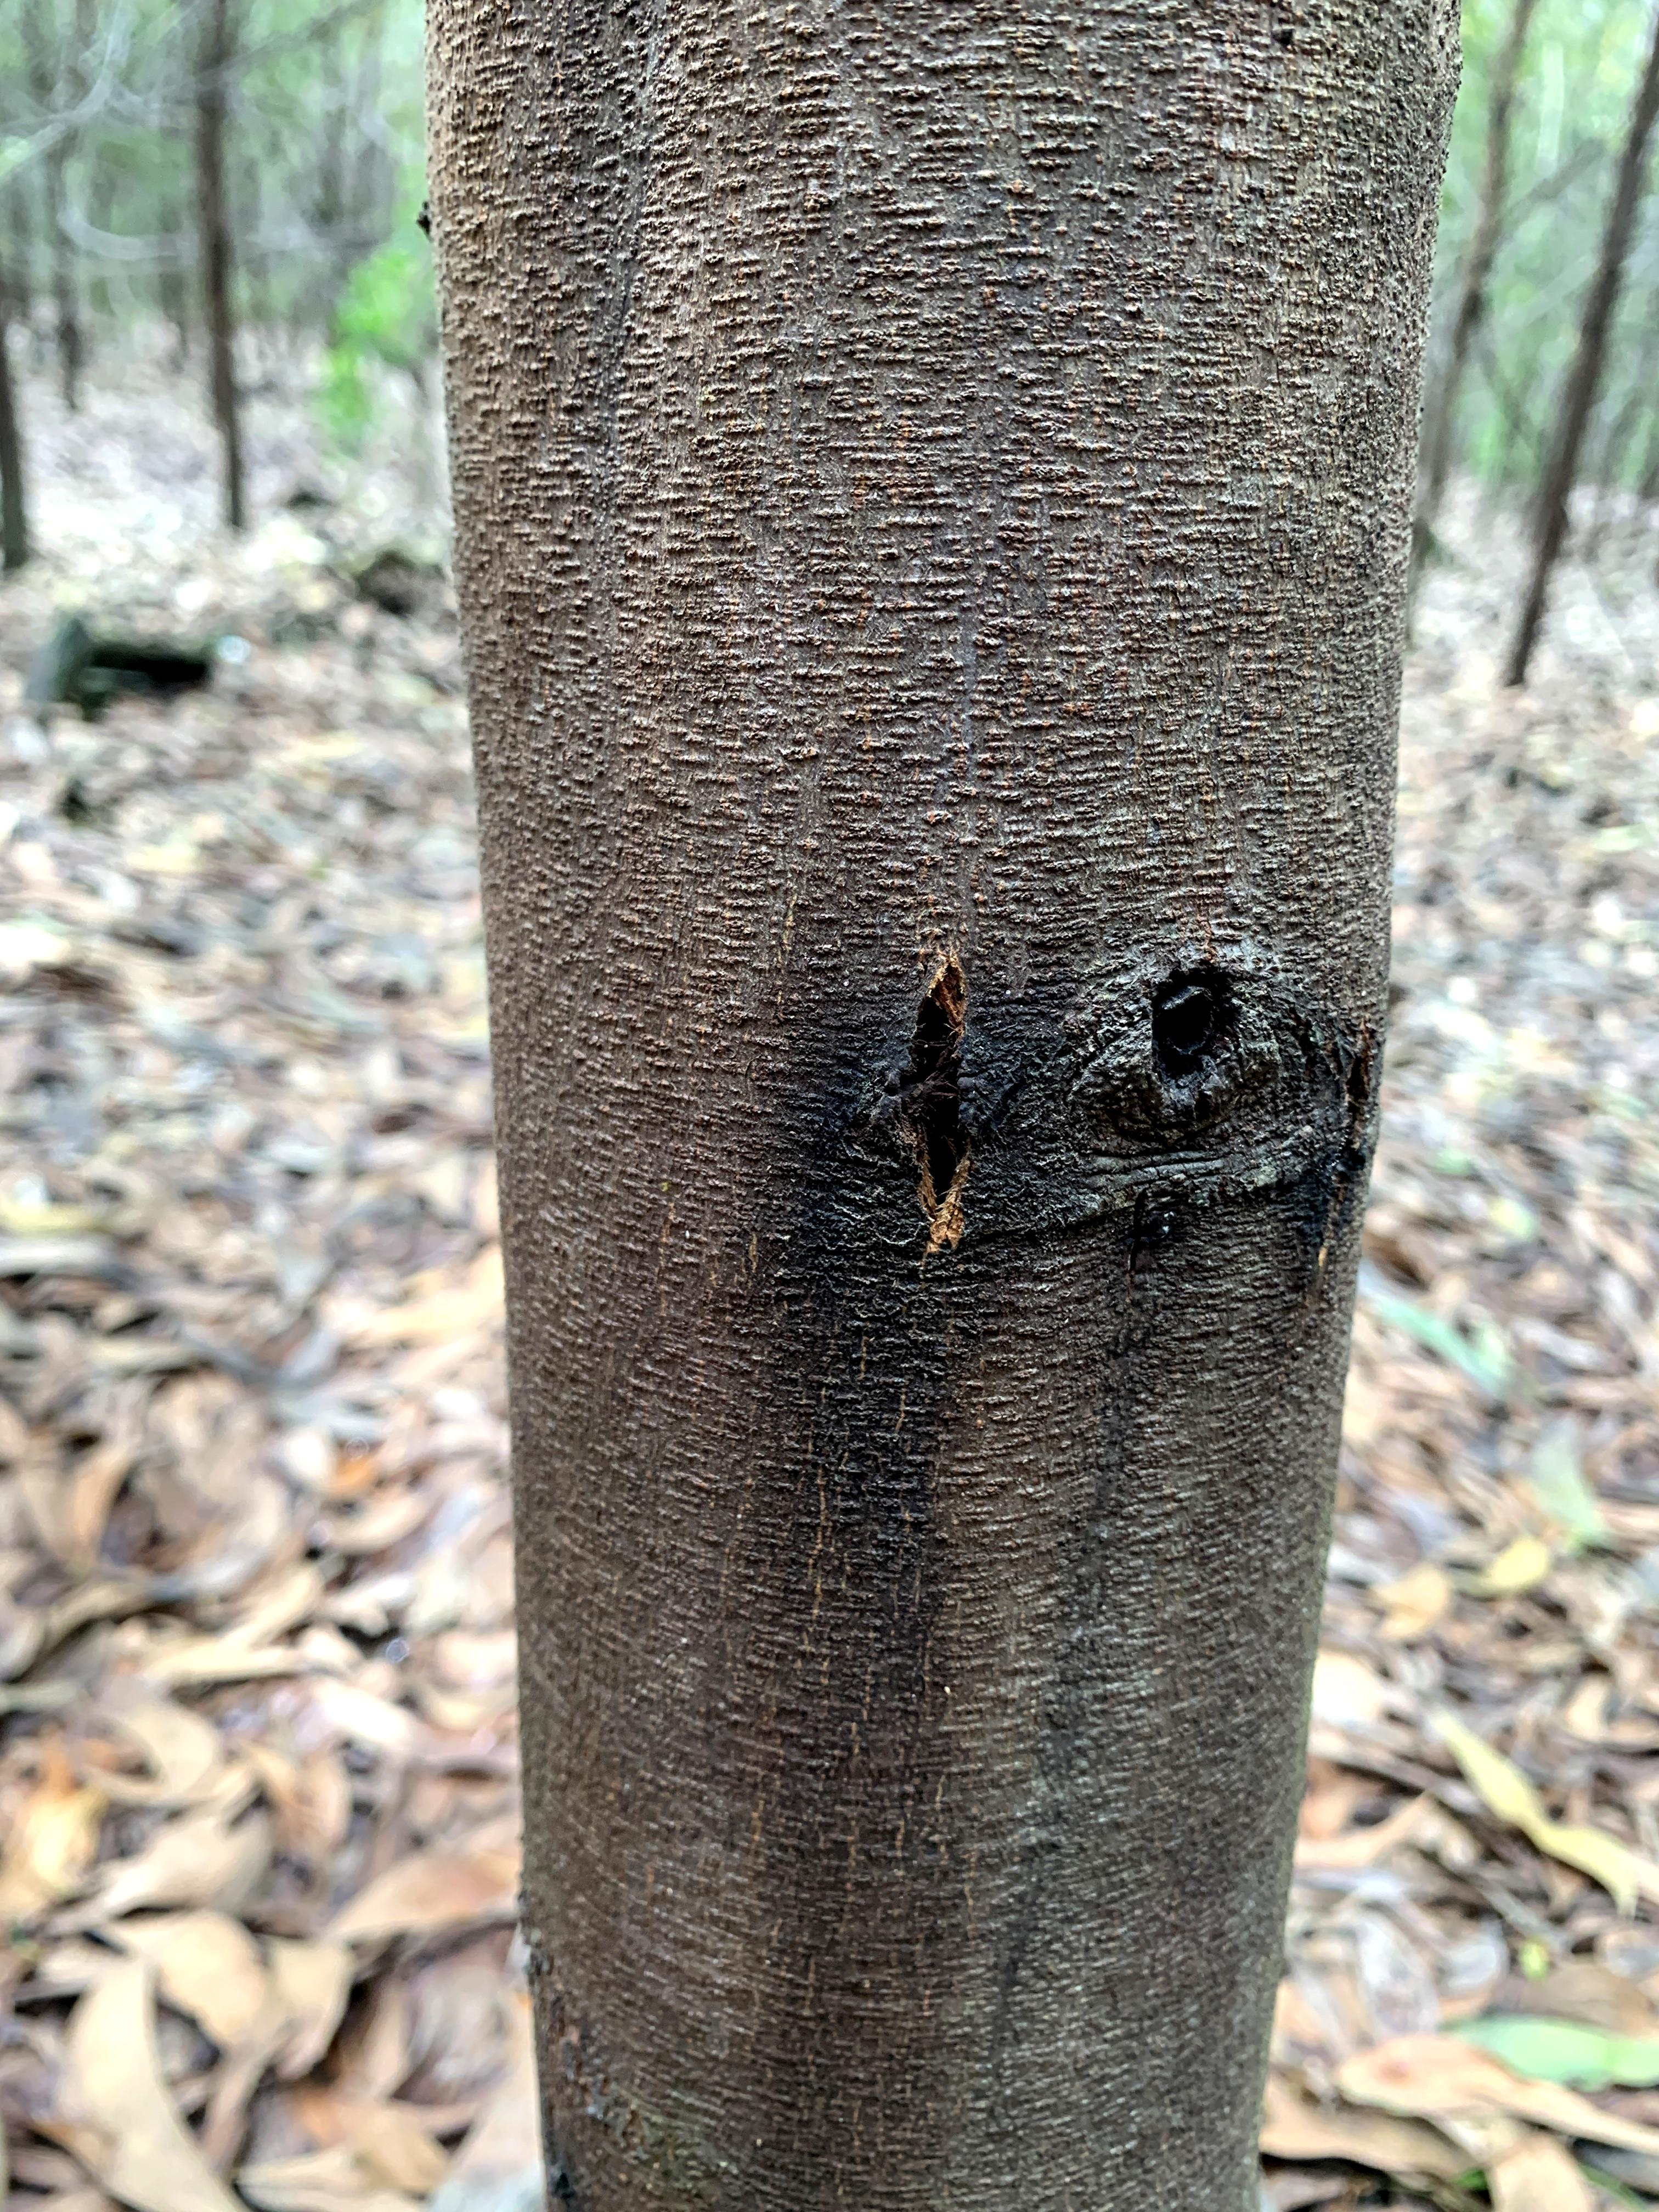Stem Borer: (1077, 900, 1385, 1226), (781, 928, 1065, 1261)
